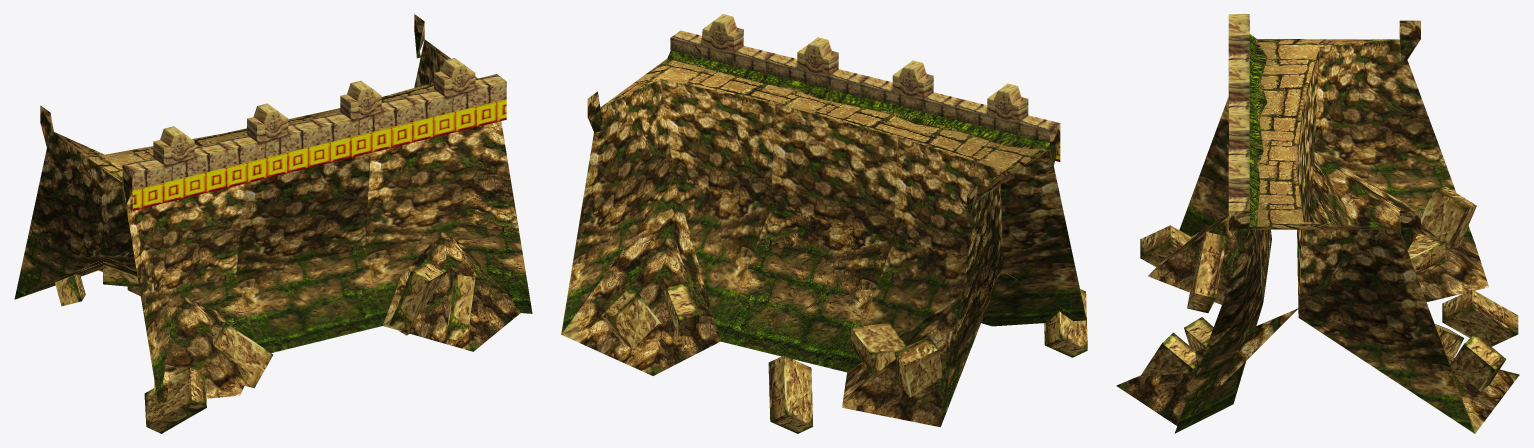
The model's file is narrow_left.fbx.
3 renders of one model, left to right at view 1: azimuth 30°, elevation 25°; view 2: azimuth 150°, elevation 25°; view 3: azimuth 270°, elevation 25°, orthographic. The views are drawn at different scales.
Parts seen in each view (by area): view 1: templeStraightNarrowSmallUpHorz_prefab; view 2: templeStraightNarrowSmallUpHorz_prefab; view 3: templeStraightNarrowSmallUpHorz_prefab.
Boxes of the visible parts, x1=… form: templeStraightNarrowSmallUpHorz_prefab: x1=14, y1=14, x2=532, y2=433; templeStraightNarrowSmallUpHorz_prefab: x1=561, y1=14, x2=1087, y2=433; templeStraightNarrowSmallUpHorz_prefab: x1=1116, y1=14, x2=1519, y2=433.
Size of the model in its own units: 6112 by 4213 by 5373.
